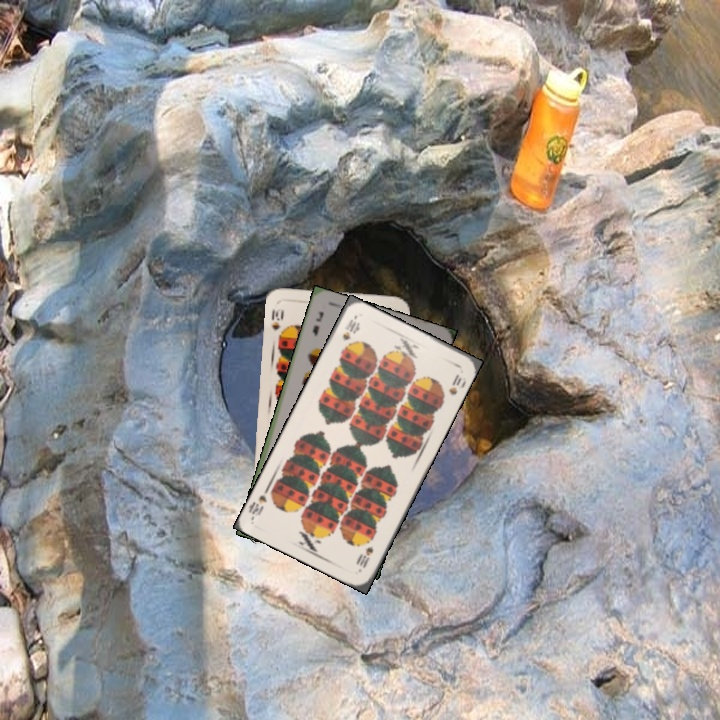E7: (308, 308, 326, 339)
S10: (338, 314, 362, 344), (354, 542, 376, 571), (268, 305, 286, 334)
